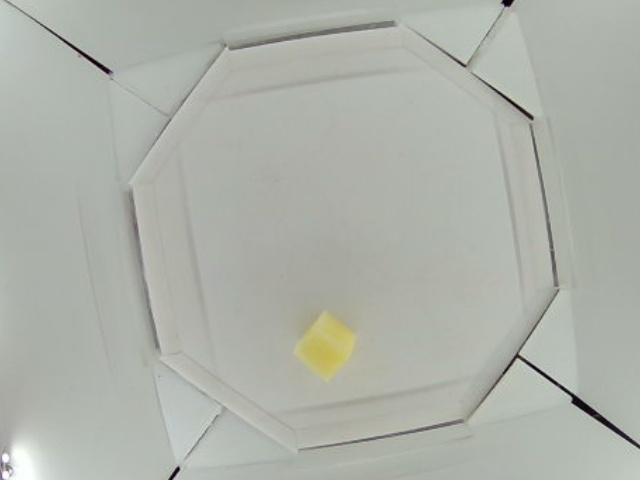Potato: (297, 311, 357, 375)
